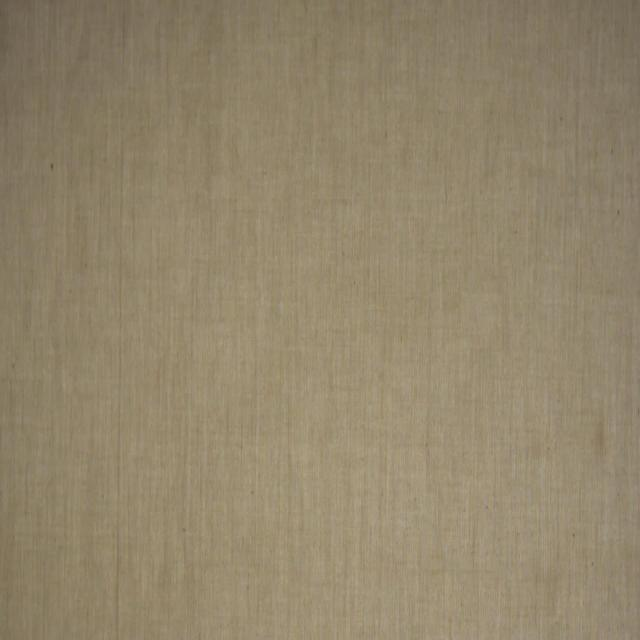dirty: (594, 414, 608, 461)
